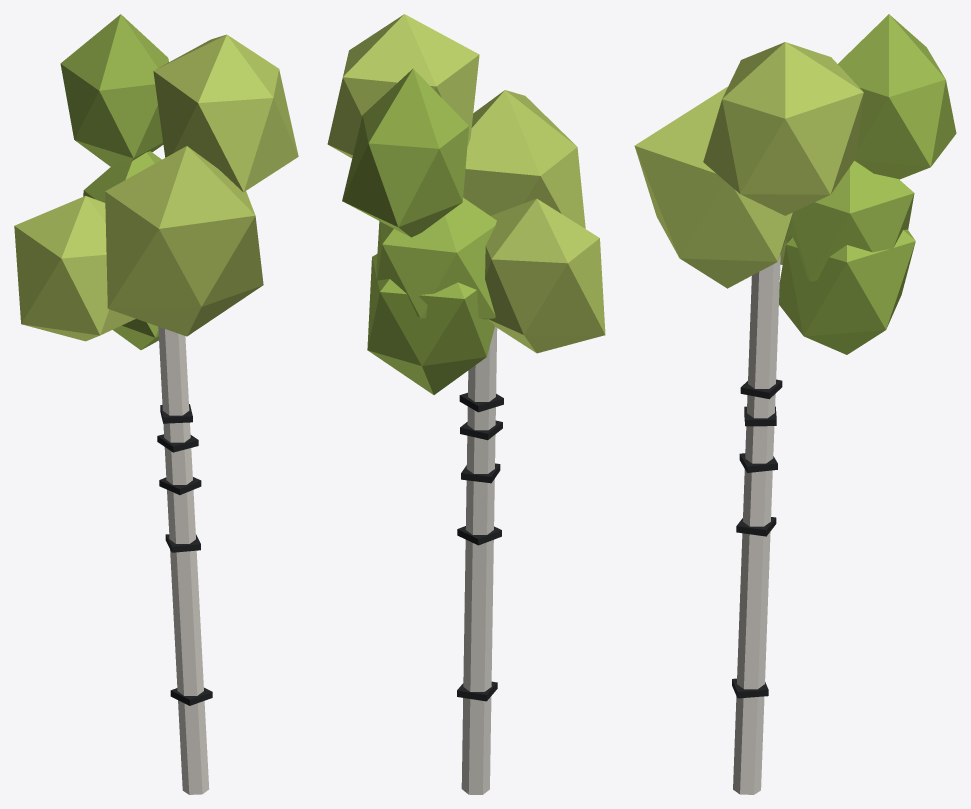
File: bjork_1.glb
The picture shows the model from 3 angles, left to right: view 1: azimuth 30°, elevation 25°; view 2: azimuth 150°, elevation 25°; view 3: azimuth 270°, elevation 25°; orthographic projection. The views are drawn at different scales.
Parts seen in each view (by area): view 1: bjork_1; view 2: bjork_1; view 3: bjork_1.
Boxes of the visible parts, x1,y1,x2,y2 form: bjork_1: (14, 14, 298, 794); bjork_1: (327, 14, 605, 794); bjork_1: (634, 14, 956, 794).
Size of the model in its own units: 3.48 by 9.72 by 3.67.
